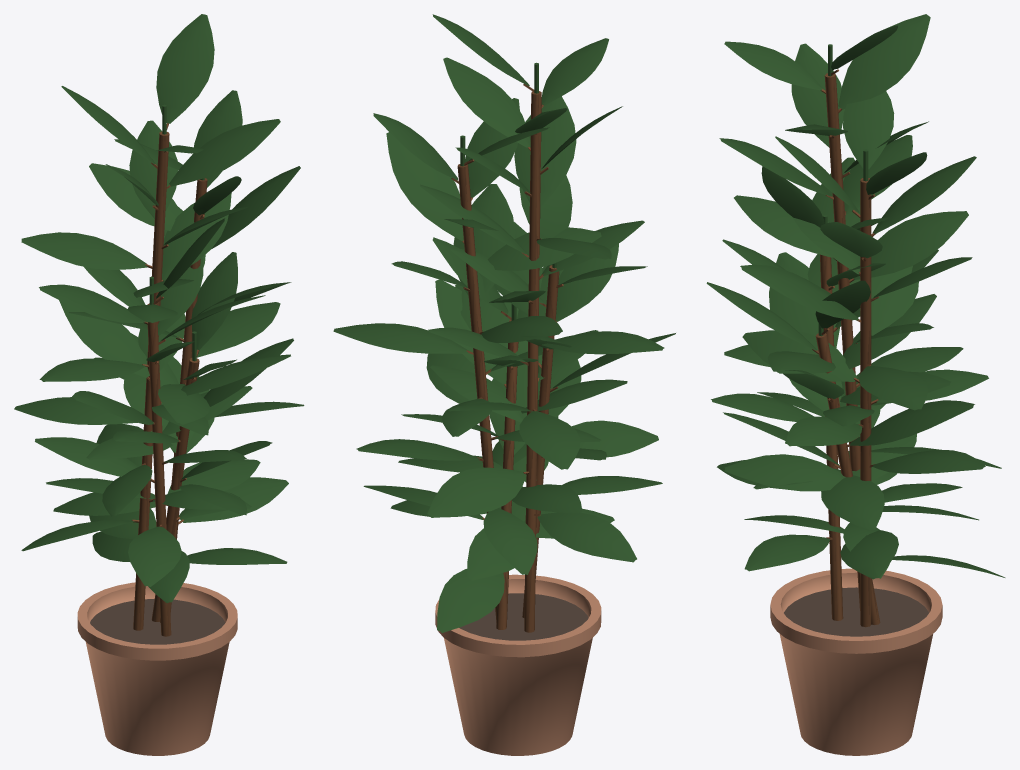
The model's file is X14_DRESS_Plant_Rubber.glb.
3 renders of one model, left to right at view 1: azimuth 30°, elevation 25°; view 2: azimuth 150°, elevation 25°; view 3: azimuth 270°, elevation 25°, orthographic. The views are drawn at different scales.
Parts seen in each view (by area): view 1: X14_DRESS_Plant_Rubber_LOD0; view 2: X14_DRESS_Plant_Rubber_LOD0; view 3: X14_DRESS_Plant_Rubber_LOD0.
Boxes of the visible parts, bbox=[...] form: X14_DRESS_Plant_Rubber_LOD0: bbox=[14, 14, 304, 755]; X14_DRESS_Plant_Rubber_LOD0: bbox=[333, 14, 675, 755]; X14_DRESS_Plant_Rubber_LOD0: bbox=[706, 14, 1005, 755].
Size of what is drawn, in the model's own units: 0.7361 by 1.74 by 0.6379.
4 materials, 1 textured.
